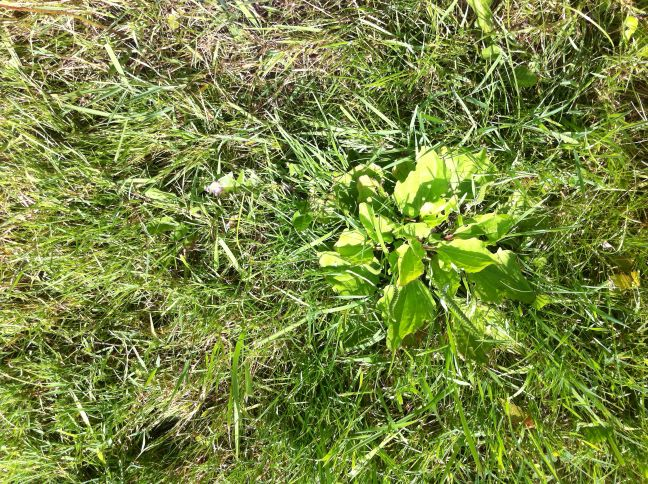weed1: (317, 145, 546, 355)
